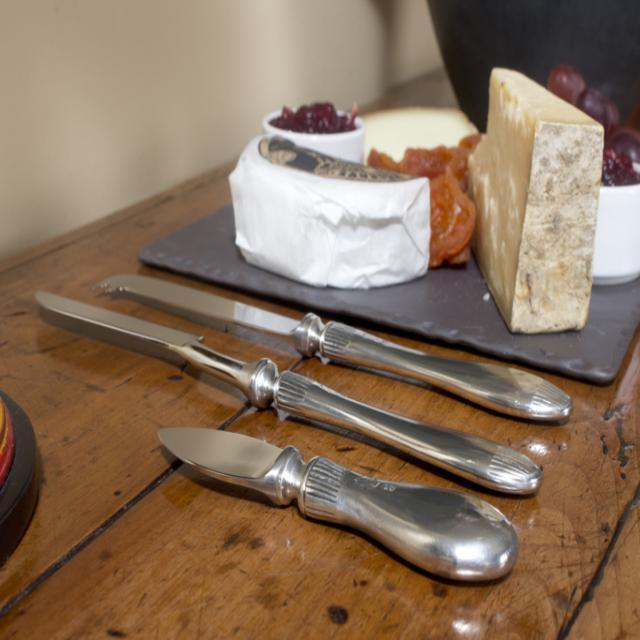Cheese: (467, 67, 607, 334)
